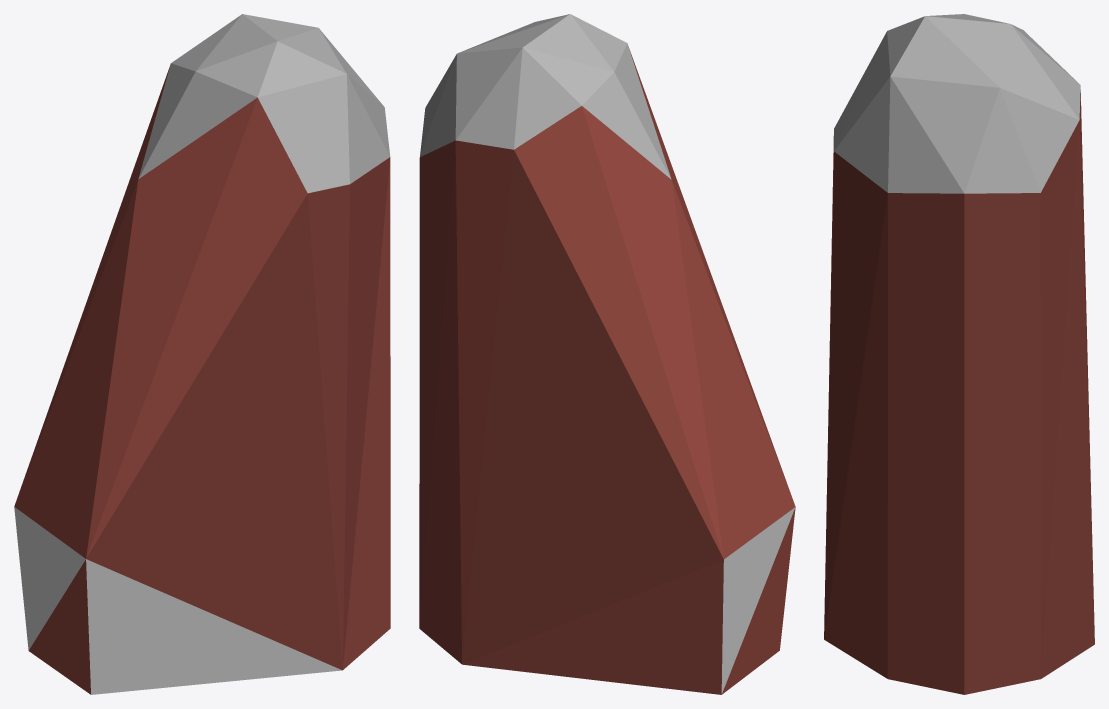
Rendered from Silo_House.lod4.glb.
3 views of the same model, side by side, from view 1: azimuth 30°, elevation 25°; view 2: azimuth 150°, elevation 25°; view 3: azimuth 270°, elevation 25° (orthographic). The views are drawn at different scales.
Parts seen in each view (by area): view 1: Silo_House; view 2: Silo_House; view 3: Silo_House.
Part boxes in pixels (x1,y1,x2,y2): Silo_House: [14, 14, 390, 694]; Silo_House: [419, 14, 795, 694]; Silo_House: [824, 14, 1094, 694].
Bounding box in the file's own units: 5.35 × 9.11 × 3.64.
